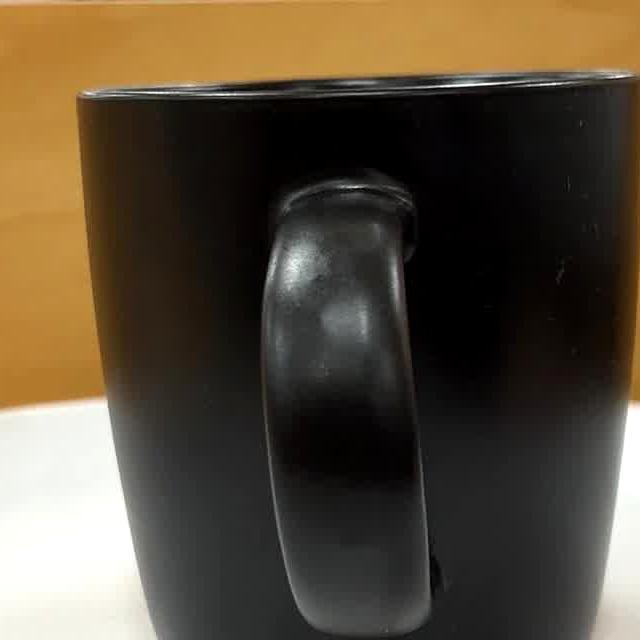cup: (84, 79, 640, 640)
